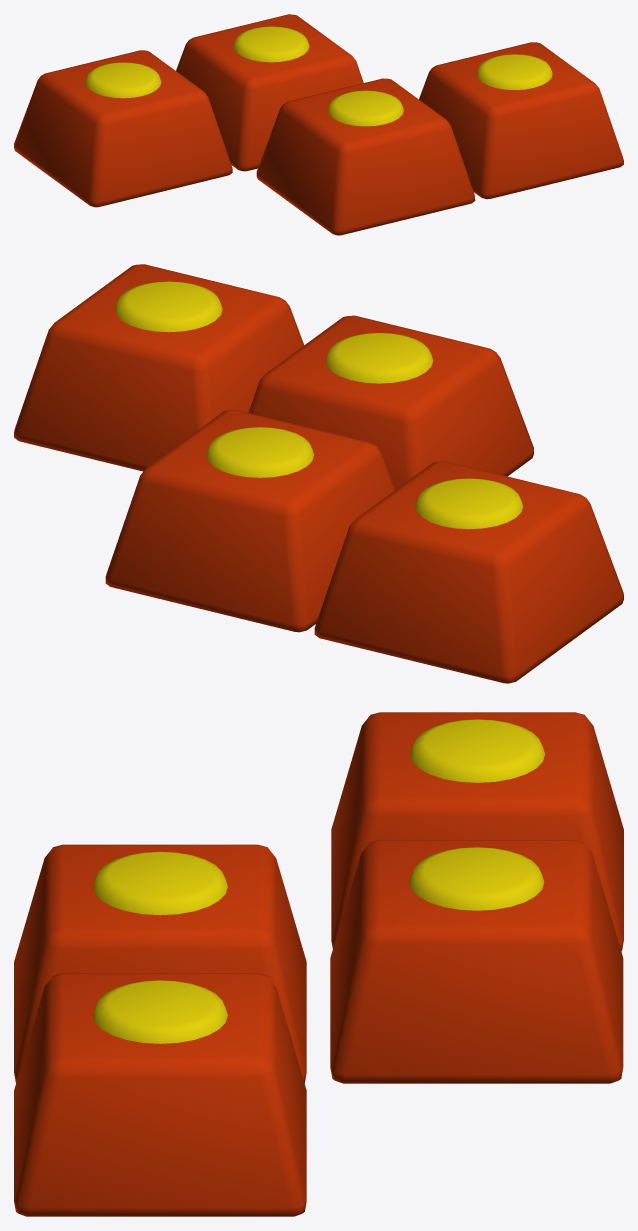
The model's file is Z_piece_low poly 1.fbx.
3 views of the same model, one above another, from view 1: azimuth 30°, elevation 25°; view 2: azimuth 150°, elevation 25°; view 3: azimuth 270°, elevation 25° (orthographic). The views are drawn at different scales.
Parts seen in each view (by area): view 1: Cube.012; view 2: Cube.012; view 3: Cube.012.
Part boxes in pixels (bbox=[...]): Cube.012: bbox=[14, 14, 623, 235]; Cube.012: bbox=[14, 264, 623, 683]; Cube.012: bbox=[14, 712, 623, 1216].
Size of the model in its own units: 27.71 by 7.84 by 41.35.
